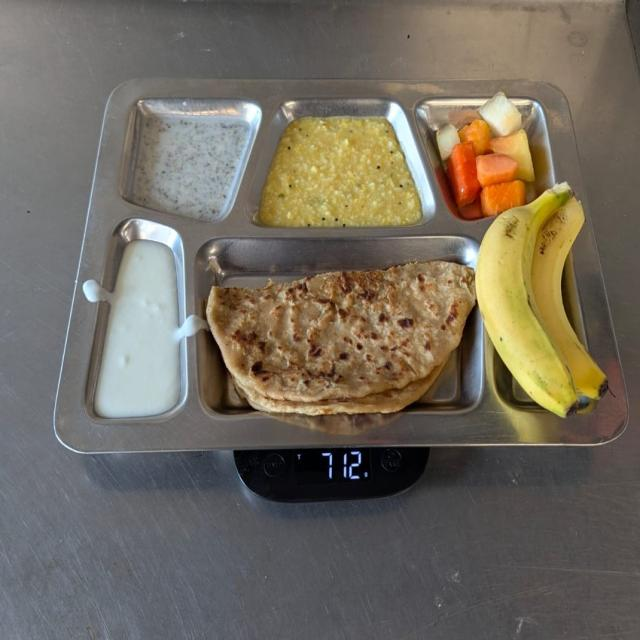Banana: (474, 180, 612, 417)
Chapati: (204, 256, 476, 413)
Curd: (91, 237, 185, 418)
Khichdi: (255, 108, 426, 230)
Mix Fruit: (433, 90, 540, 216)
Porridge: (120, 106, 254, 218)
